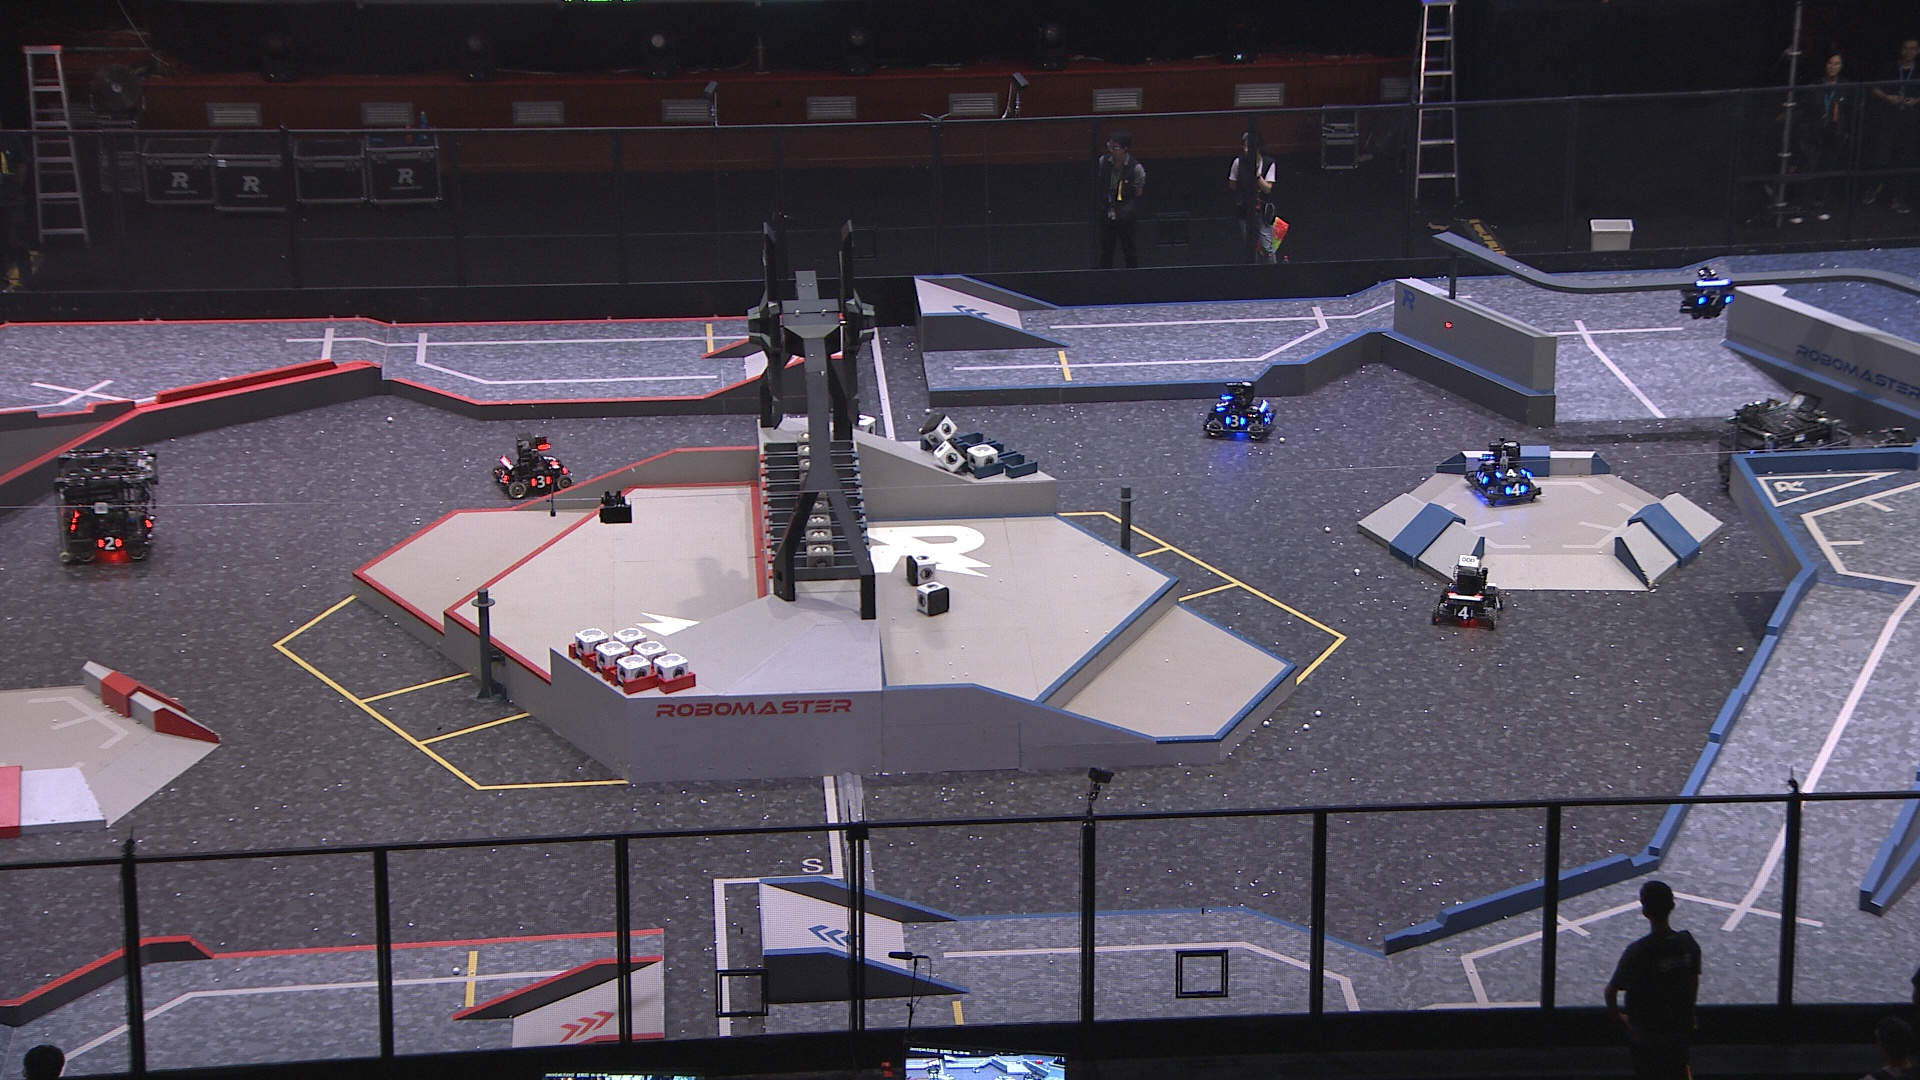armor: (1698, 291, 1733, 309), (98, 535, 124, 551), (529, 472, 551, 491), (1225, 413, 1247, 429), (1495, 469, 1524, 481), (1215, 396, 1232, 414), (1505, 483, 1528, 496), (541, 455, 562, 469), (1453, 607, 1472, 622), (1476, 469, 1489, 489), (495, 469, 510, 484), (1263, 407, 1273, 427), (1491, 593, 1501, 612)
car: (1720, 386, 1855, 524), (47, 447, 160, 564), (1429, 553, 1505, 633), (1462, 438, 1542, 509), (1199, 377, 1278, 448), (491, 431, 571, 500), (1865, 427, 1920, 493)
watcher: (1676, 266, 1737, 320)
